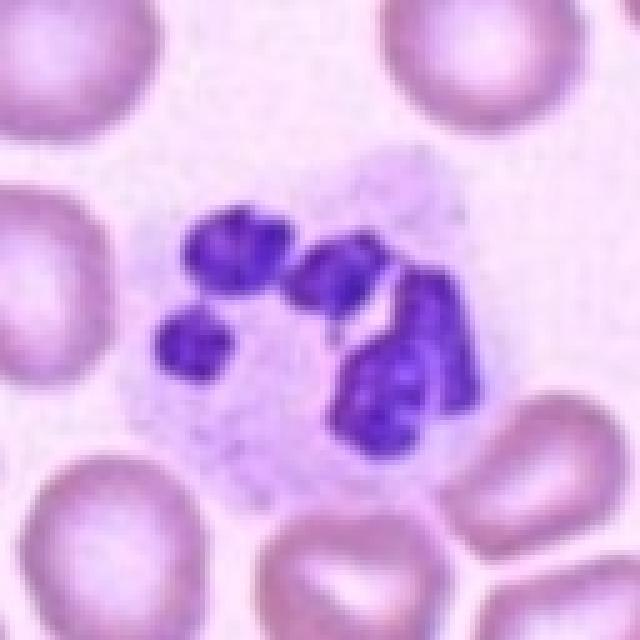neutro: (153, 99, 506, 600)
